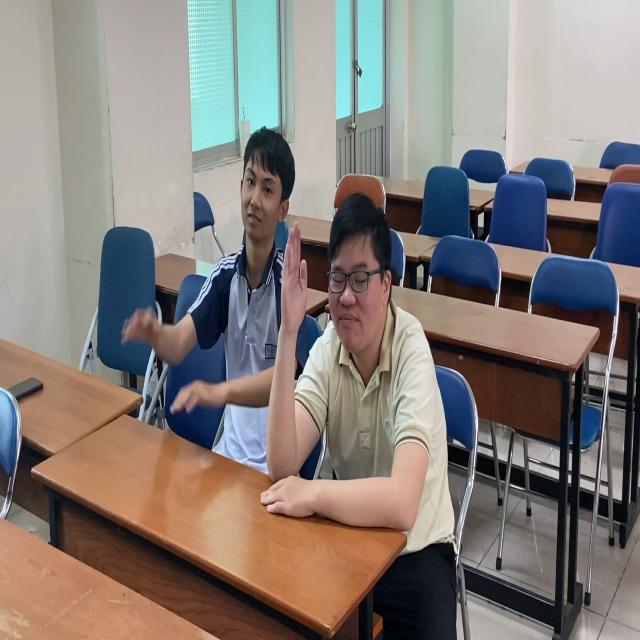raise_hand: (272, 180, 451, 556)
